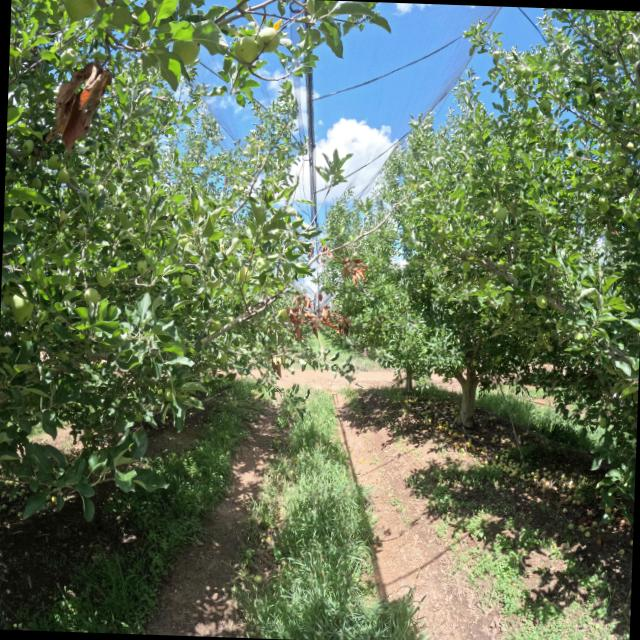-FireBlight-: (52, 65, 113, 152), (284, 294, 352, 340), (339, 255, 369, 287), (308, 242, 332, 266)
